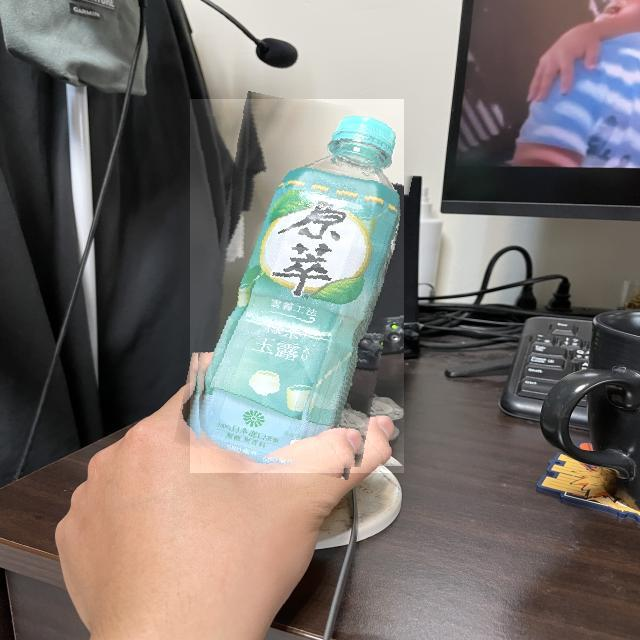YuanTsui_GreenTea: (190, 99, 404, 473)
